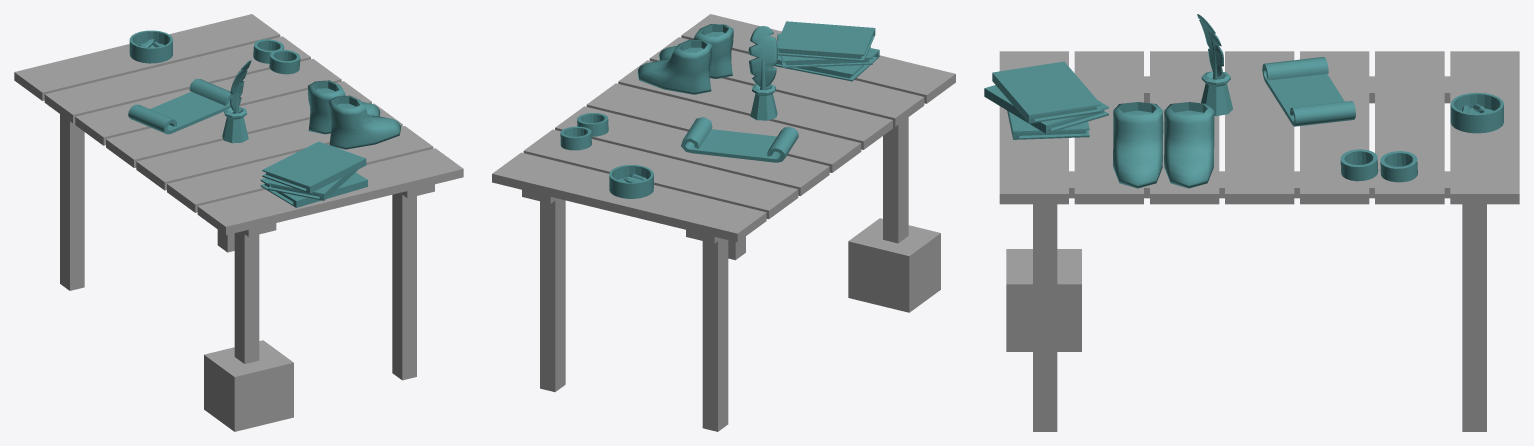
Rendered from mesa1Enc.fbx.
3 renders of one model, left to right at view 1: azimuth 30°, elevation 25°; view 2: azimuth 150°, elevation 25°; view 3: azimuth 270°, elevation 25°, orthographic. The views are drawn at different scales.
Visible parts, largest first — view 1: pCube408, pCube402, pCube403, pCube416, pCube406, pCube405, pCube414, pCube404, pCube407, pCube412, pCube409, pCube415 (+9 smaller); view 2: pCube402, pCube403, pCube416, pCube405, pCube404, pCube406, pCube412, pCube407, pCube413, pCube409, pCube408, polySurface4904 (+9 smaller); view 3: pCube403, pCube405, pCube402, pCube409, pCube404, pCube407, pCube408, pCube413, pCube414, pCube416, pCube406, polySurface4904 (+10 smaller).
Part boxes in pixels (bbox=[...]): pCube408: bbox=[197, 148, 463, 235]; pCube402: bbox=[14, 14, 280, 100]; pCube403: bbox=[44, 36, 310, 123]; pCube416: bbox=[204, 340, 293, 431]; pCube406: bbox=[136, 103, 402, 190]; pCube405: bbox=[106, 81, 371, 167]; pCube414: bbox=[392, 193, 416, 380]; pCube404: bbox=[75, 59, 341, 145]; pCube407: bbox=[167, 126, 433, 212]; pCube412: bbox=[60, 114, 84, 290]; pCube409: bbox=[307, 80, 400, 149]; pCube415: bbox=[234, 231, 259, 363]; pCube402: bbox=[492, 152, 766, 242]; pCube403: bbox=[523, 129, 798, 219]; pCube416: bbox=[848, 218, 940, 312]; pCube405: bbox=[586, 83, 861, 172]; pCube404: bbox=[555, 106, 829, 195]; pCube406: bbox=[618, 60, 892, 149]; pCube412: bbox=[702, 238, 728, 431]; pCube407: bbox=[649, 37, 924, 126]; pCube413: bbox=[540, 198, 565, 391]; pCube409: bbox=[637, 24, 733, 94]; pCube408: bbox=[681, 14, 955, 103]; polySurface4904: bbox=[777, 21, 875, 61]; pCube403: bbox=[1375, 51, 1444, 204]; pCube405: bbox=[1225, 51, 1294, 204]; pCube402: bbox=[1450, 51, 1519, 204]; pCube409: bbox=[1113, 102, 1214, 188]; pCube404: bbox=[1300, 51, 1369, 204]; pCube407: bbox=[1074, 51, 1143, 204]; pCube408: bbox=[999, 51, 1068, 204]; pCube413: bbox=[1462, 204, 1486, 431]; pCube414: bbox=[1033, 204, 1057, 431]; pCube416: bbox=[1006, 249, 1081, 351]; pCube406: bbox=[1150, 51, 1219, 204]; polySurface4904: bbox=[992, 61, 1100, 123].
Size of the model in its own units: 121 by 142 by 192.
